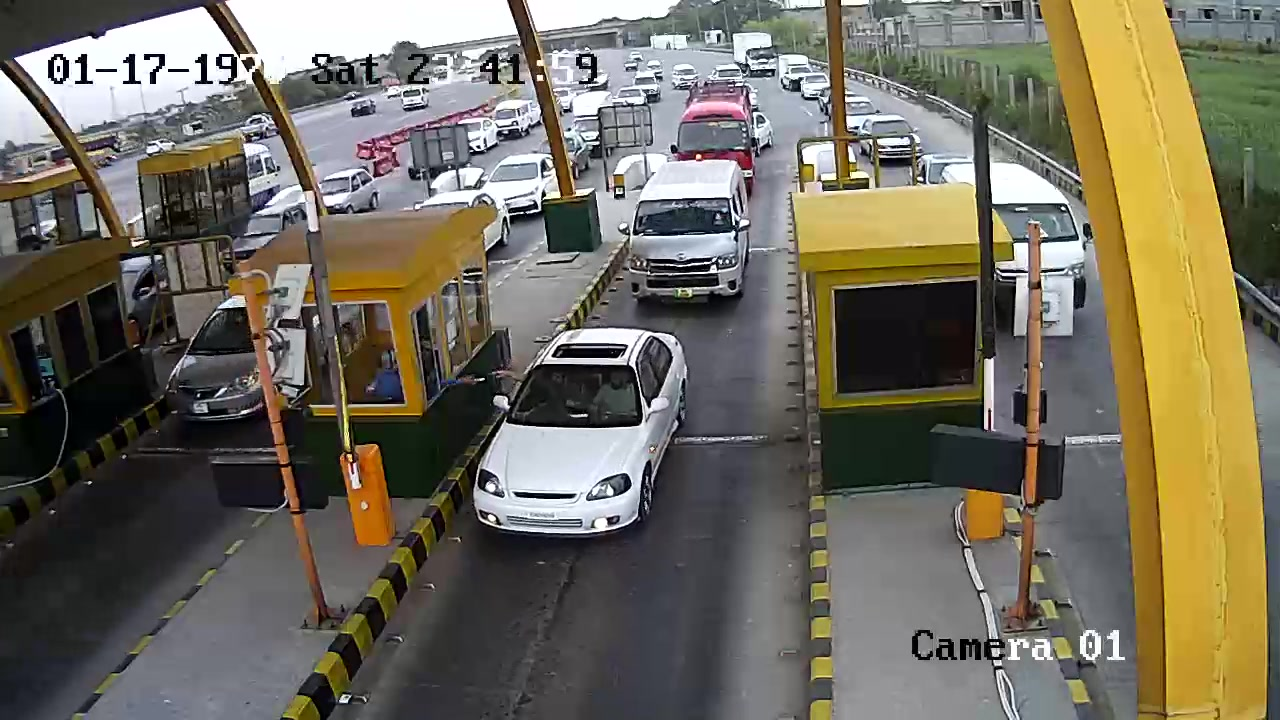F1: (462, 323, 710, 546)
F3: (625, 152, 757, 312)
